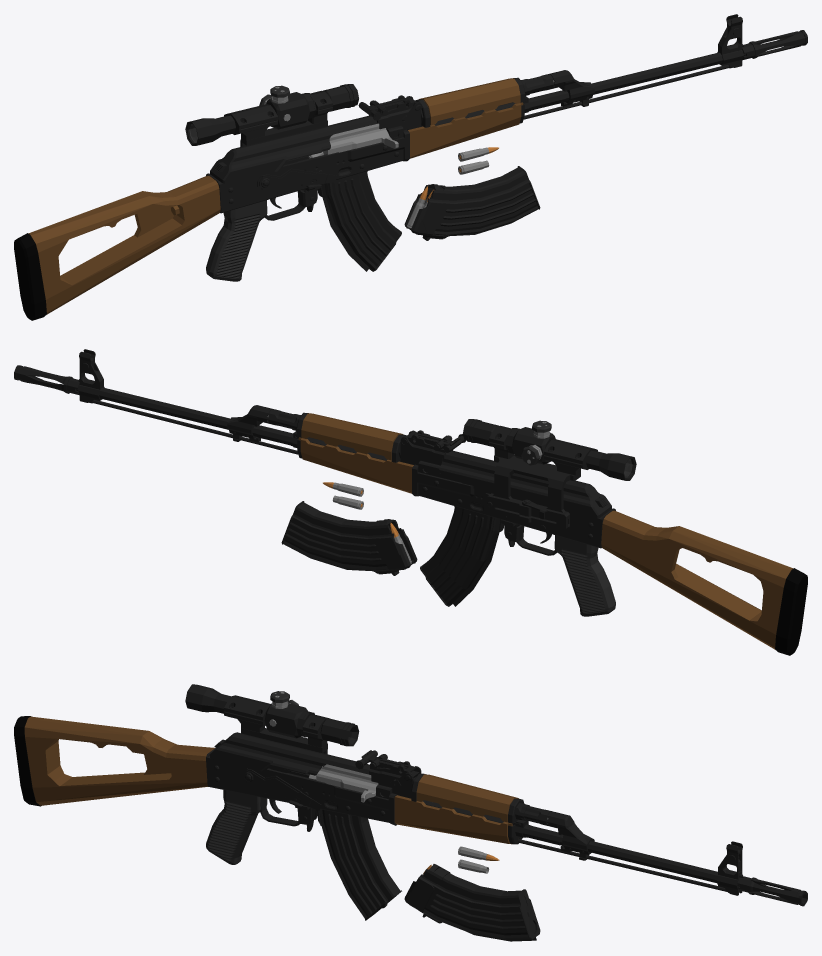
File: low-poly_tabuk_sniper_rifle.glb
The picture shows the model from 3 angles, top to bottom: view 1: azimuth 30°, elevation 25°; view 2: azimuth 150°, elevation 25°; view 3: azimuth 330°, elevation 25°; orthographic projection.
Visible parts, largest first — view 1: tabuksnp stock_15, tabuksnp receiver_11, ak 20rnd steel mag_3, tabuksnp barrel_4, on76 scope_16, tabuksnp handguard_12, ak 20rnd empty steel mag_2, tabuksnp dust cover_10, tabuksnp pistol grip_13, tabuksnp bolt carrier_5, tabuksnp selector_8, tabuksnp flash hider_14; view 2: tabuksnp stock_15, on76 scope_16, ak 20rnd steel mag_3, tabuksnp barrel_4, tabuksnp receiver_11, tabuksnp handguard_12, ak 20rnd empty steel mag_2, tabuksnp dust cover_10, tabuksnp pistol grip_13, tabuksnp flash hider_14; view 3: tabuksnp stock_15, tabuksnp receiver_11, tabuksnp barrel_4, ak 20rnd steel mag_3, on76 scope_16, tabuksnp handguard_12, ak 20rnd empty steel mag_2, tabuksnp dust cover_10, tabuksnp pistol grip_13, tabuksnp bolt carrier_5, tabuksnp selector_8, tabuksnp flash hider_14.
Boxes of the visible parts, left/top/right/bottom form: tabuksnp stock_15: left=14, top=175, right=220, bottom=320; tabuksnp receiver_11: left=206, top=95, right=422, bottom=220; ak 20rnd steel mag_3: left=404, top=166, right=540, bottom=240; tabuksnp barrel_4: left=415, top=14, right=745, bottom=127; on76 scope_16: left=185, top=84, right=358, bottom=146; tabuksnp handguard_12: left=403, top=78, right=523, bottom=161; ak 20rnd empty steel mag_2: left=317, top=171, right=401, bottom=271; tabuksnp dust cover_10: left=210, top=115, right=377, bottom=183; tabuksnp pistol grip_13: left=206, top=200, right=267, bottom=281; tabuksnp bolt carrier_5: left=308, top=80, right=554, bottom=158; tabuksnp selector_8: left=257, top=168, right=336, bottom=190; tabuksnp flash hider_14: left=742, top=30, right=807, bottom=60; tabuksnp stock_15: left=601, top=510, right=807, bottom=655; on76 scope_16: left=463, top=419, right=636, bottom=529; ak 20rnd steel mag_3: left=281, top=501, right=417, bottom=575; tabuksnp barrel_4: left=76, top=349, right=406, bottom=462; tabuksnp receiver_11: left=400, top=430, right=615, bottom=555; tabuksnp handguard_12: left=298, top=413, right=418, bottom=496; ak 20rnd empty steel mag_2: left=420, top=506, right=504, bottom=606; tabuksnp dust cover_10: left=439, top=450, right=611, bottom=518; tabuksnp pistol grip_13: left=554, top=535, right=615, bottom=616; tabuksnp flash hider_14: left=14, top=365, right=79, bottom=395; tabuksnp stock_15: left=14, top=716, right=214, bottom=806; tabuksnp receiver_11: left=206, top=739, right=421, bottom=826; tabuksnp barrel_4: left=397, top=773, right=742, bottom=895; ak 20rnd steel mag_3: left=404, top=864, right=540, bottom=941; on76 scope_16: left=185, top=684, right=359, bottom=754; tabuksnp handguard_12: left=388, top=774, right=518, bottom=844; ak 20rnd empty steel mag_2: left=316, top=809, right=401, bottom=920; tabuksnp dust cover_10: left=210, top=732, right=377, bottom=775; tabuksnp pistol grip_13: left=206, top=790, right=267, bottom=864; tabuksnp bolt carrier_5: left=308, top=764, right=548, bottom=819; tabuksnp selector_8: left=243, top=768, right=321, bottom=810; tabuksnp flash hider_14: left=737, top=876, right=807, bottom=906.
Bounding box in the file's own units: 11.08 × 2.74 × 0.8154.
